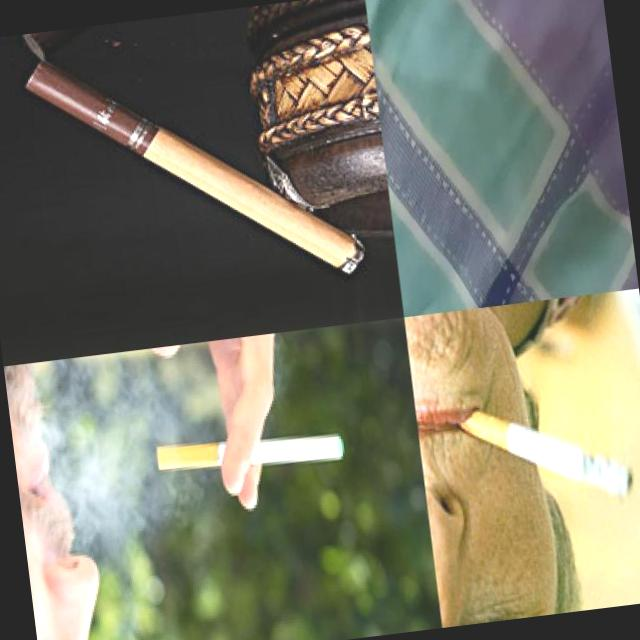smoke: (23, 25, 366, 312), (454, 390, 638, 520), (154, 423, 346, 484)
